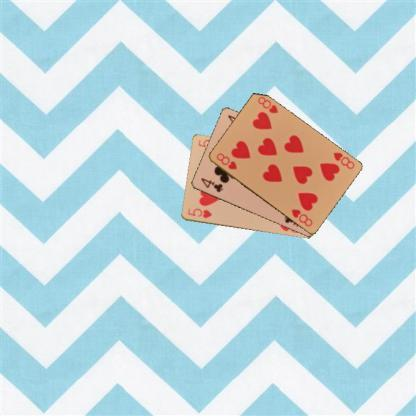4c: (198, 175, 224, 194)
5h: (185, 206, 213, 220)
8h: (330, 150, 355, 171), (214, 150, 238, 171)
